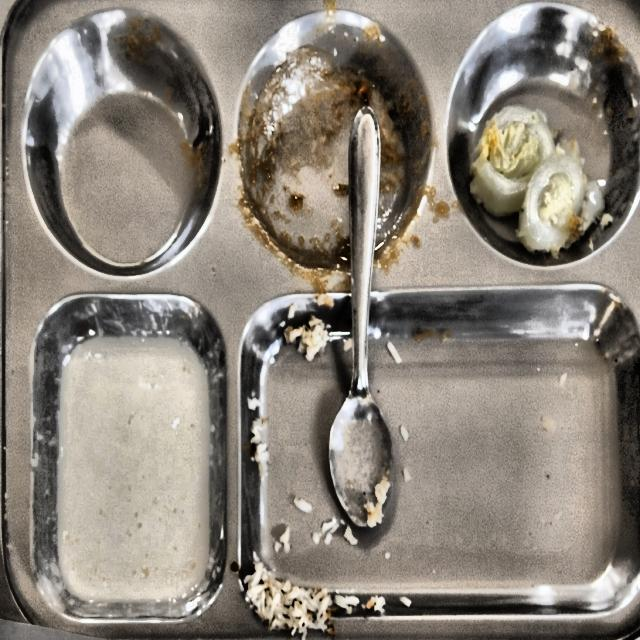Gulab-jamun: (0, 0, 640, 640), (265, 335, 640, 612)
Palak-paneer: (60, 337, 209, 601)
Salad-Mix: (471, 105, 602, 257)
